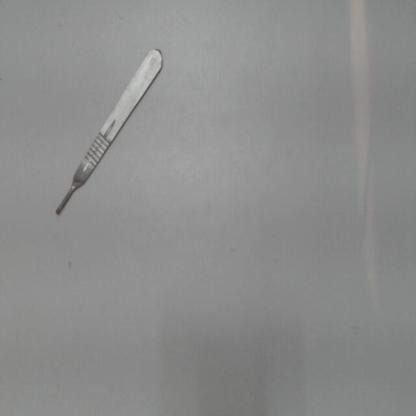No.3 BP Handle: (48, 41, 172, 229)
